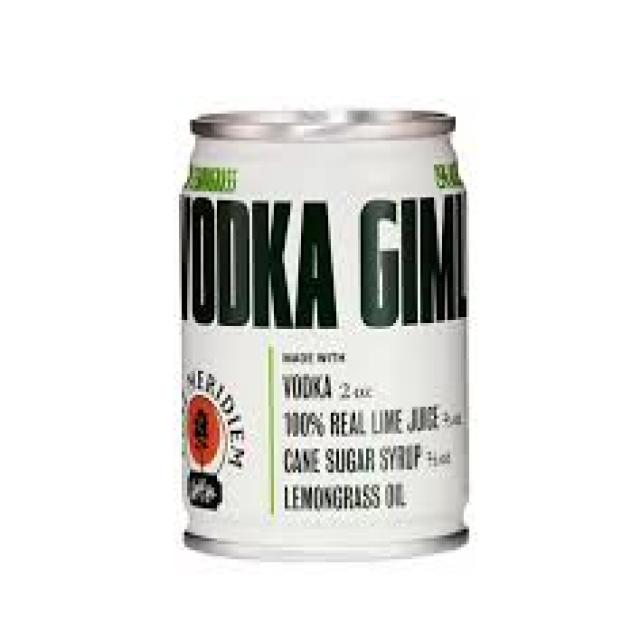Cans: (166, 93, 488, 571)
